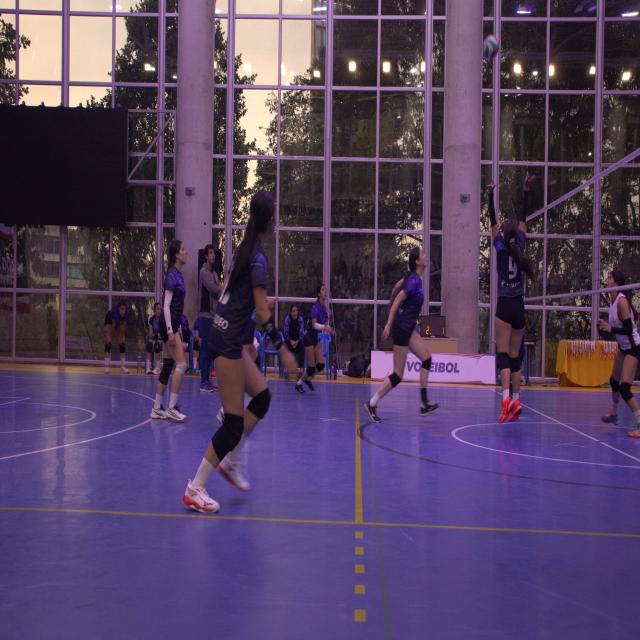volleyball: (483, 33, 499, 60)
